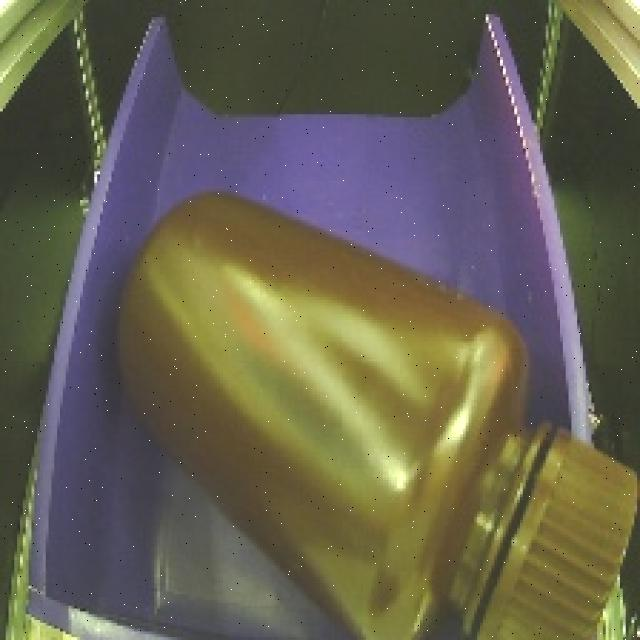plastic: (84, 163, 640, 640)
